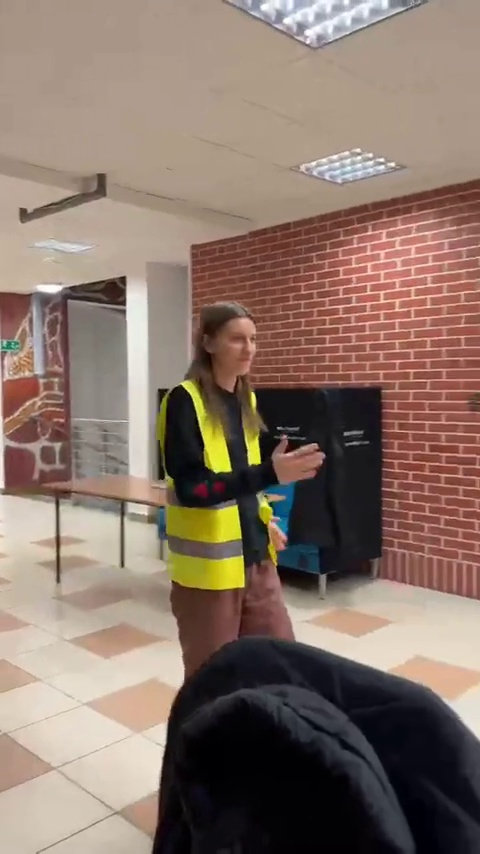vest: (150, 293, 328, 671)
